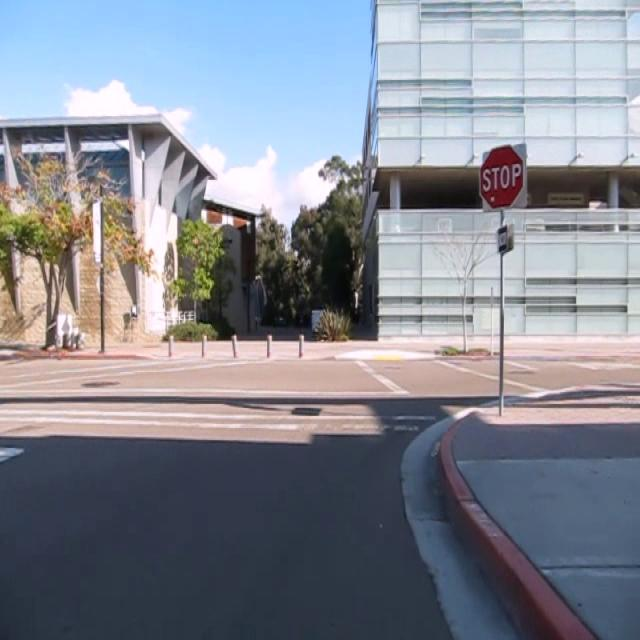stop_sign: (479, 142, 525, 210)
